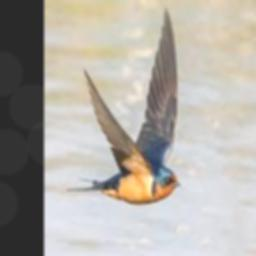Swallow: (66, 6, 181, 203)
